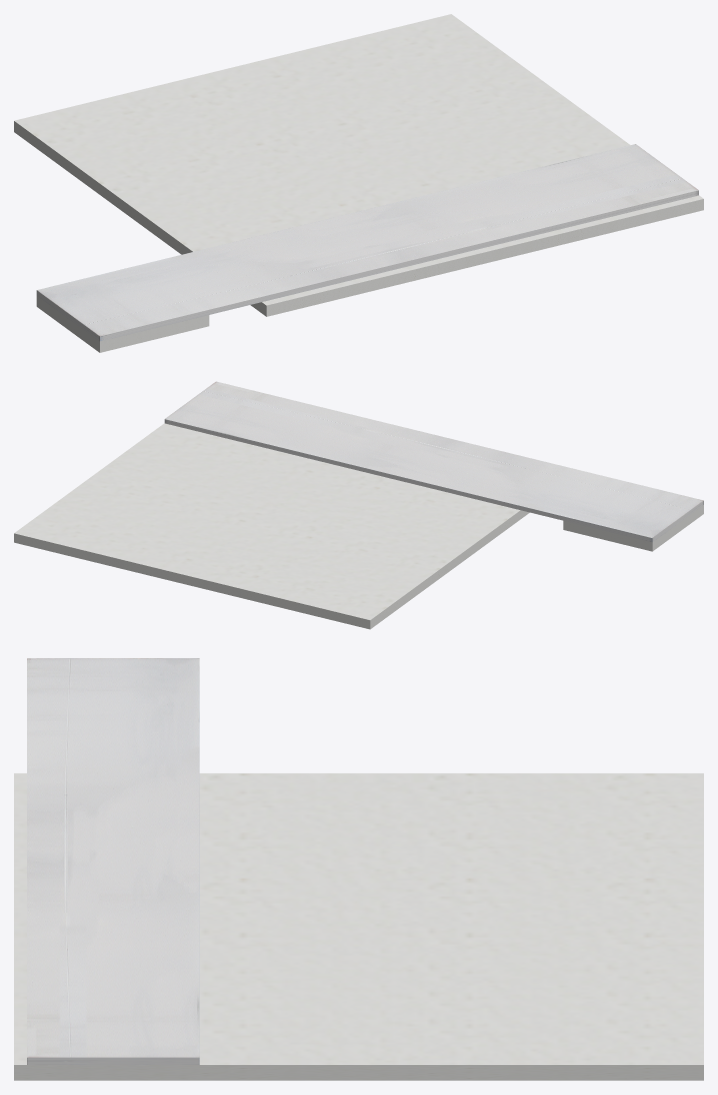
Rendered from mpzy011-geode.glb.
3 views of the same model, one above another, from view 1: azimuth 30°, elevation 25°; view 2: azimuth 150°, elevation 25°; view 3: azimuth 270°, elevation 25° (orthographic). The views are drawn at different scales.
Parts seen in each view (by area): view 1: Node; view 2: Node; view 3: Node.
Boxes of the visible parts, box(x1,y1,x2,y2) form: Node: box(14, 14, 703, 352); Node: box(14, 381, 703, 629); Node: box(14, 658, 703, 1080).
Size of the model in its own units: 0.548 by 0.0145 by 0.4.
Materials: 2 (2 with a texture image).
